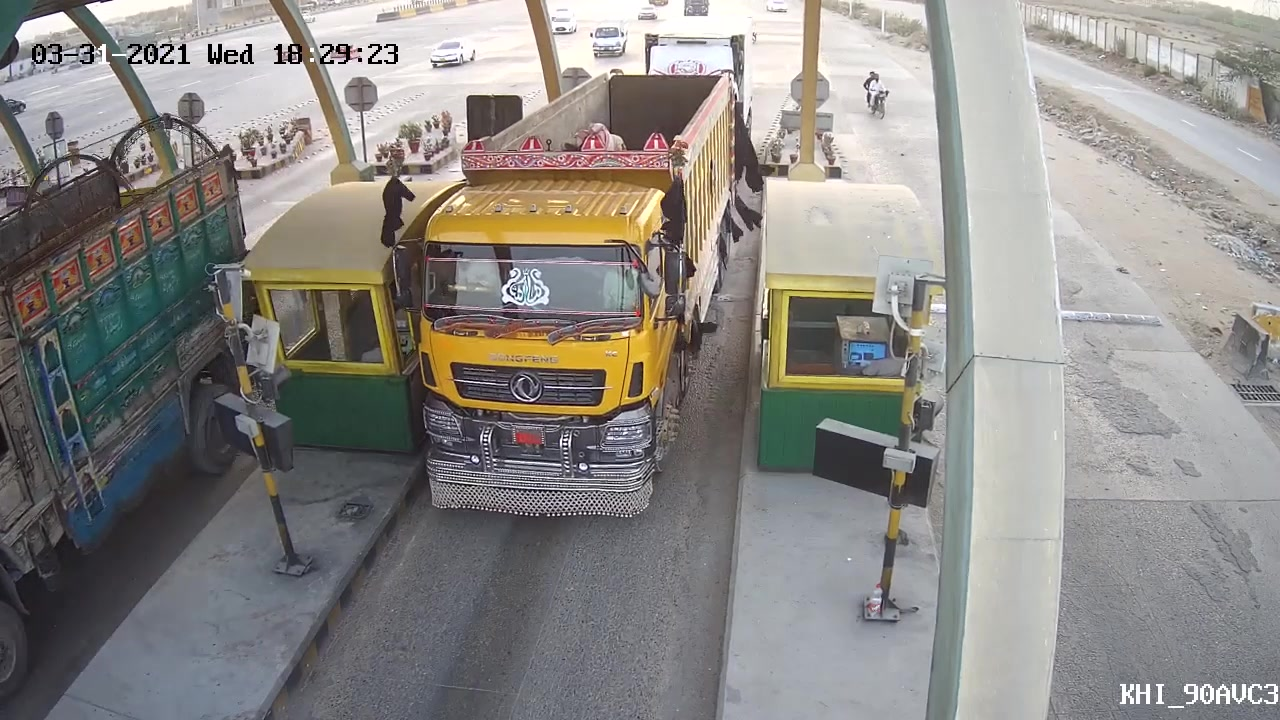F6: (387, 74, 746, 522)
